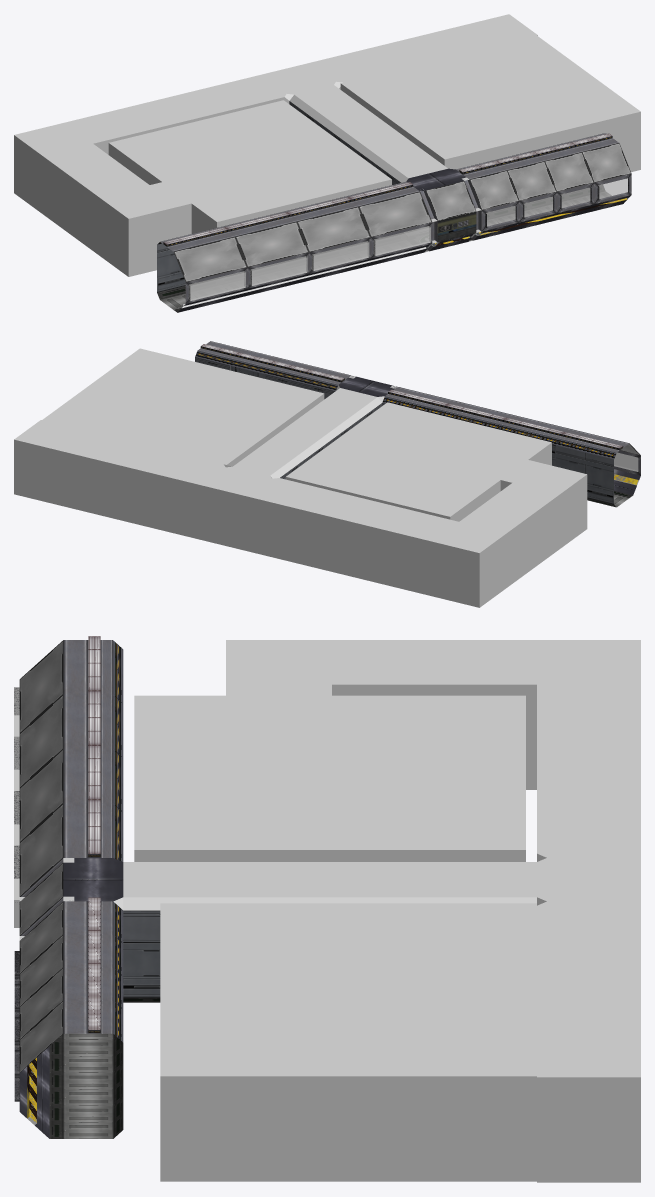
The model's file is render test.fbx.
3 renders of one model, top to bottom at view 1: azimuth 30°, elevation 25°; view 2: azimuth 150°, elevation 25°; view 3: azimuth 270°, elevation 25°, orthographic. The views are drawn at different scales.
Visible parts, largest first — view 1: Cube; view 2: Cube; view 3: Cube.
Part boxes in pixels (<box>): Cube: <box>14,14,640,312</box>; Cube: <box>14,341,640,607</box>; Cube: <box>14,636,640,1182</box>.
Bounding box in the file's own units: 997 × 116 × 604.
